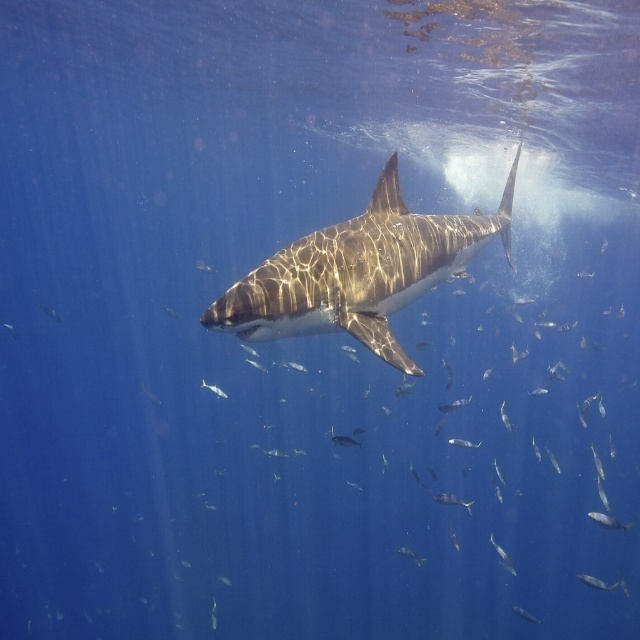Shark: (198, 126, 516, 401)
